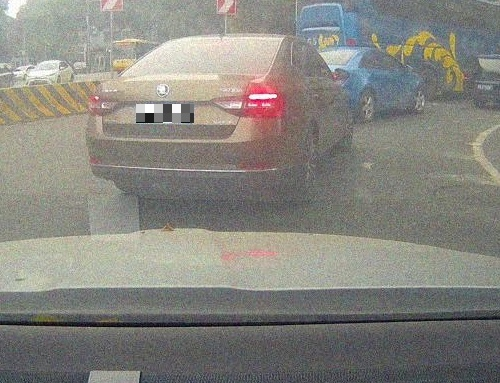L_light: (89, 91, 123, 114)
R_light: (212, 89, 284, 119)
T_light: (208, 38, 231, 43)
day-right: (88, 33, 288, 195)
plate_1: (136, 104, 194, 123)
